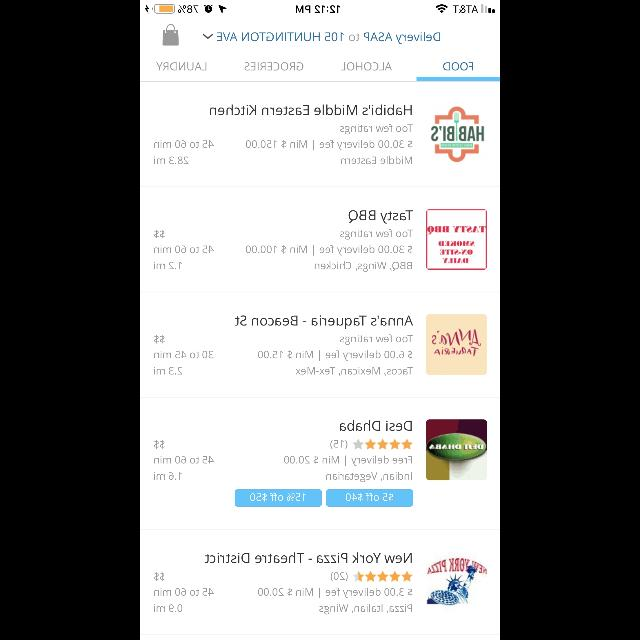icon: (352, 570, 412, 582), (352, 438, 412, 449), (162, 24, 180, 46), (202, 34, 214, 40)
image: (426, 314, 486, 376), (426, 210, 486, 270), (426, 420, 486, 480), (430, 106, 484, 162), (427, 557, 487, 605)
text: (245, 230, 412, 272), (245, 124, 412, 164), (258, 334, 412, 376), (258, 588, 412, 614), (284, 456, 412, 482), (216, 32, 439, 44), (235, 315, 413, 329), (205, 552, 411, 564), (210, 104, 412, 116), (349, 210, 413, 223), (340, 421, 412, 432), (341, 62, 392, 72), (154, 588, 214, 596), (154, 456, 214, 464), (154, 246, 214, 254), (154, 140, 214, 148), (244, 63, 304, 71), (154, 351, 213, 359), (157, 63, 207, 71), (154, 157, 188, 165), (443, 63, 473, 71), (154, 604, 182, 612), (154, 472, 182, 480), (154, 367, 182, 375), (154, 262, 182, 270), (330, 440, 348, 450), (330, 572, 348, 582), (154, 573, 164, 581), (154, 440, 164, 448), (154, 335, 164, 343), (154, 230, 164, 238)
textbutton: (235, 489, 322, 506), (326, 489, 412, 506)
uppertaskbar: (140, 0, 500, 14)
